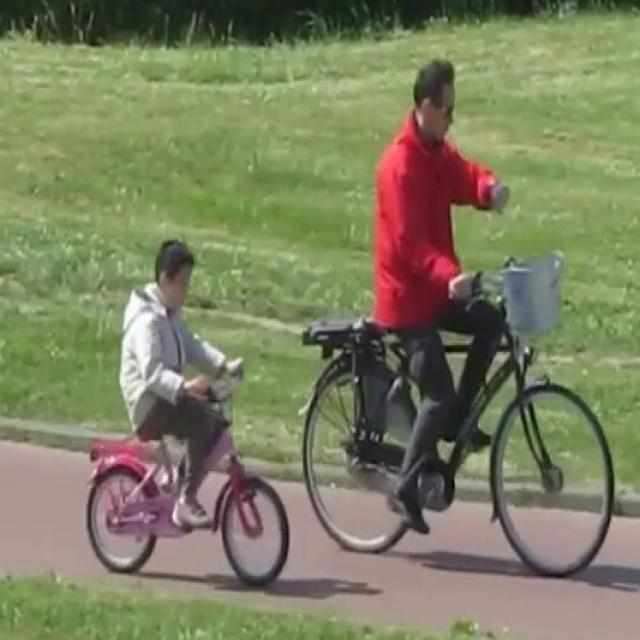car: (286, 241, 624, 594), (70, 358, 302, 605)
